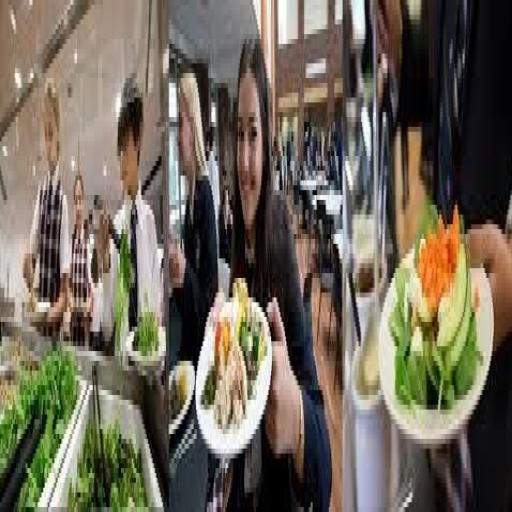eating: (214, 34, 333, 507)
